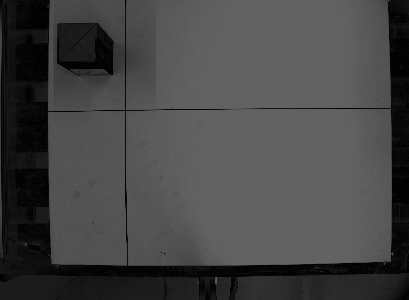b4: (54, 20, 116, 79)
